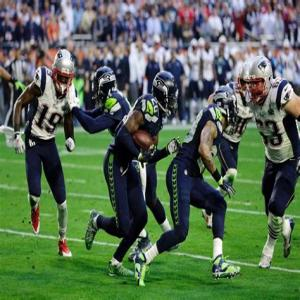Rugby: (131, 128, 156, 155)
